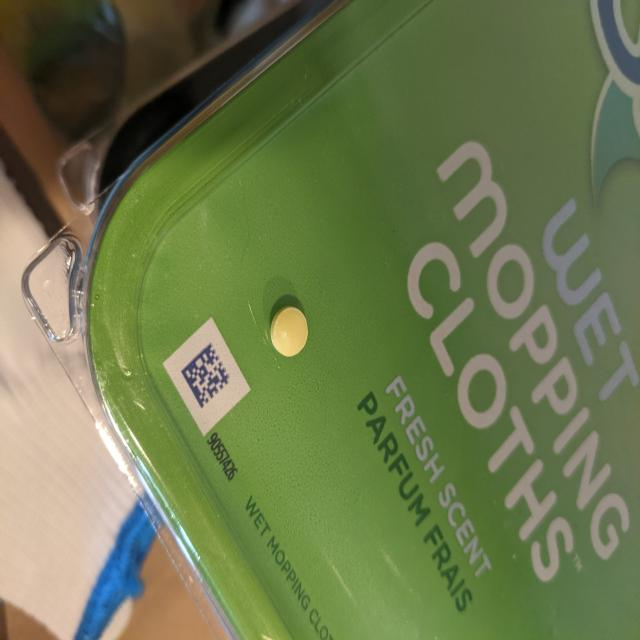non-organic waste: (269, 304, 309, 358)
